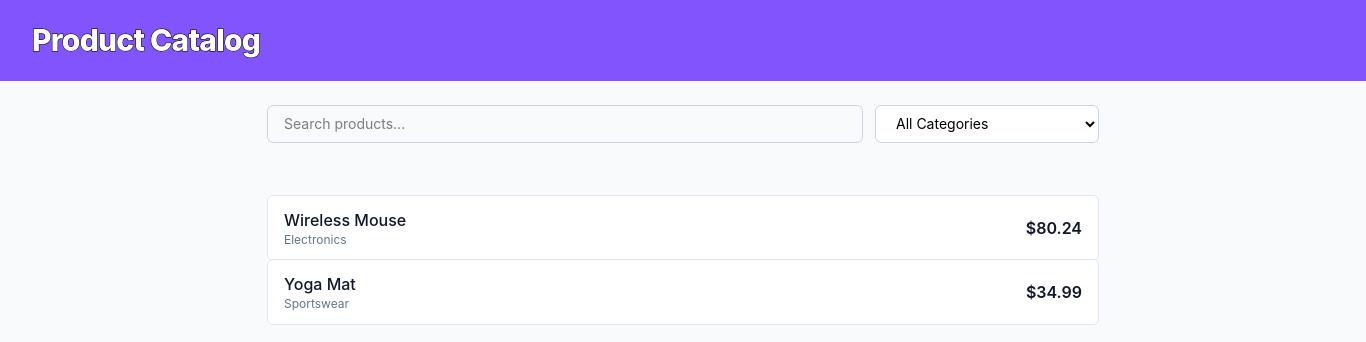
Test case: typing in search filters the visible product list
Expected: the text "Wireless Mouse" is shown, [284, 208, 406, 232]
Expected: the text "Yoga Mat" is shown, [284, 272, 356, 296]
Type "mouse" into the field at (565, 124), box [267, 105, 863, 143]
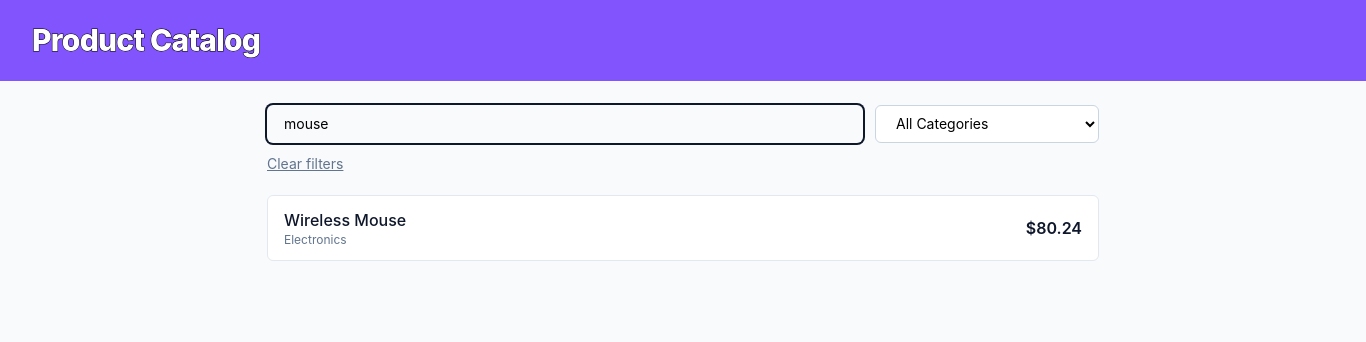
Expected: the text "Wireless Mouse" is shown, [284, 208, 406, 232]
Expected: the text "Yoga Mat" is gone
